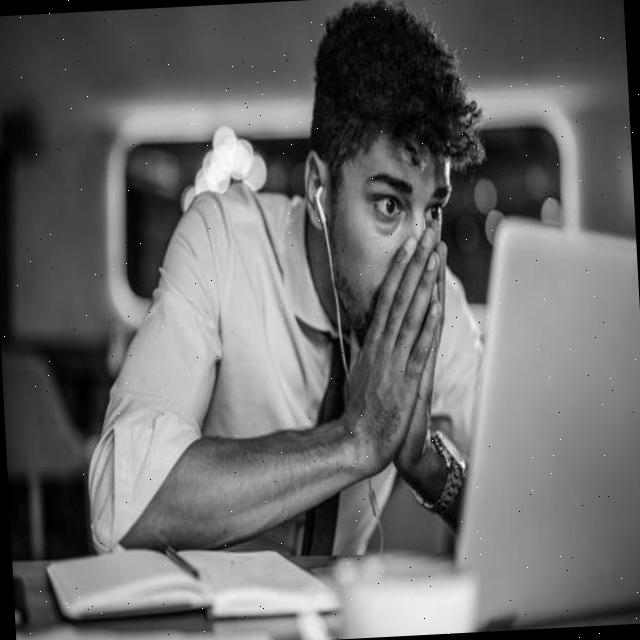Surprised: (336, 112, 460, 353)
